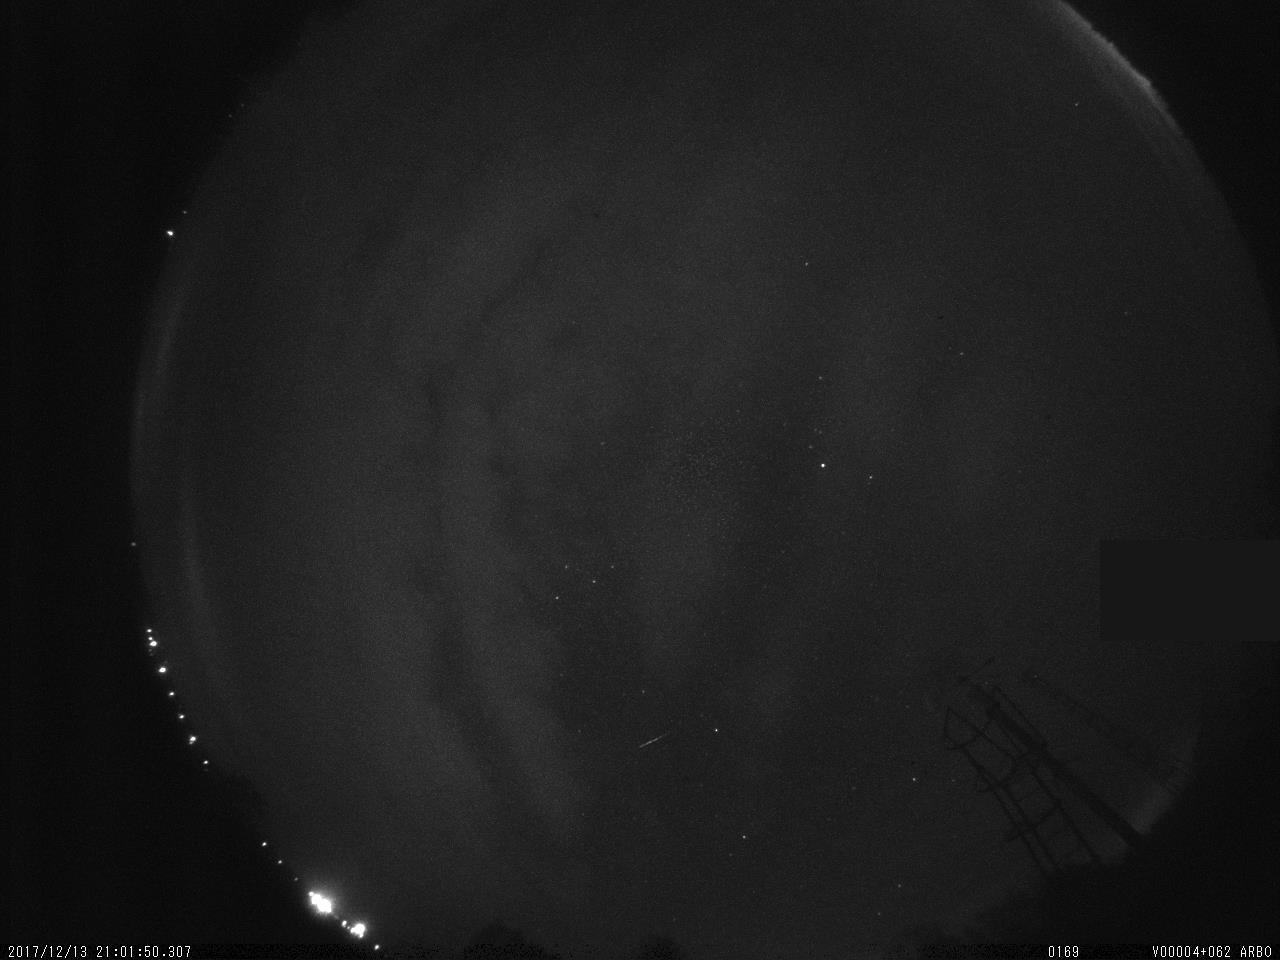meteor: (627, 723, 678, 762)
